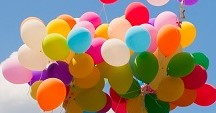Balloon: (37, 77, 66, 110), (132, 53, 159, 83), (101, 39, 130, 66), (20, 20, 45, 51), (42, 33, 69, 61), (156, 25, 180, 55), (2, 60, 32, 84), (125, 26, 152, 51), (166, 53, 194, 77), (157, 77, 184, 101), (67, 28, 92, 53), (125, 2, 152, 24), (69, 53, 93, 77)
